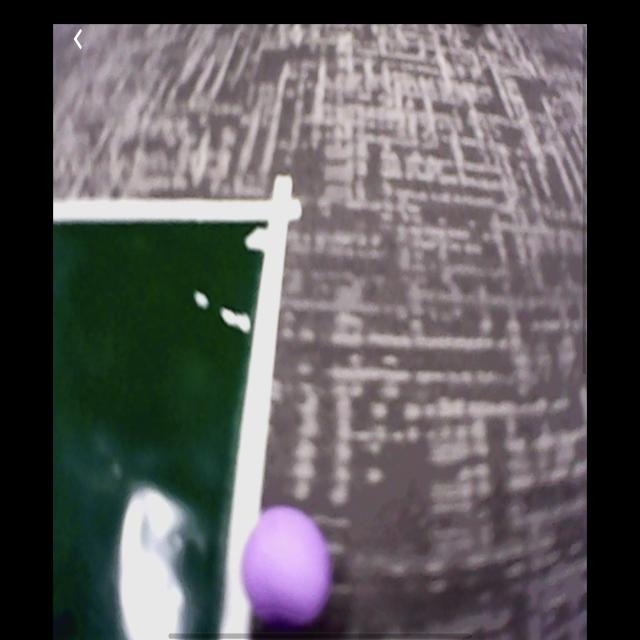ball: (243, 505, 331, 628)
